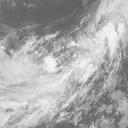cyclone: (28, 41, 74, 88)
